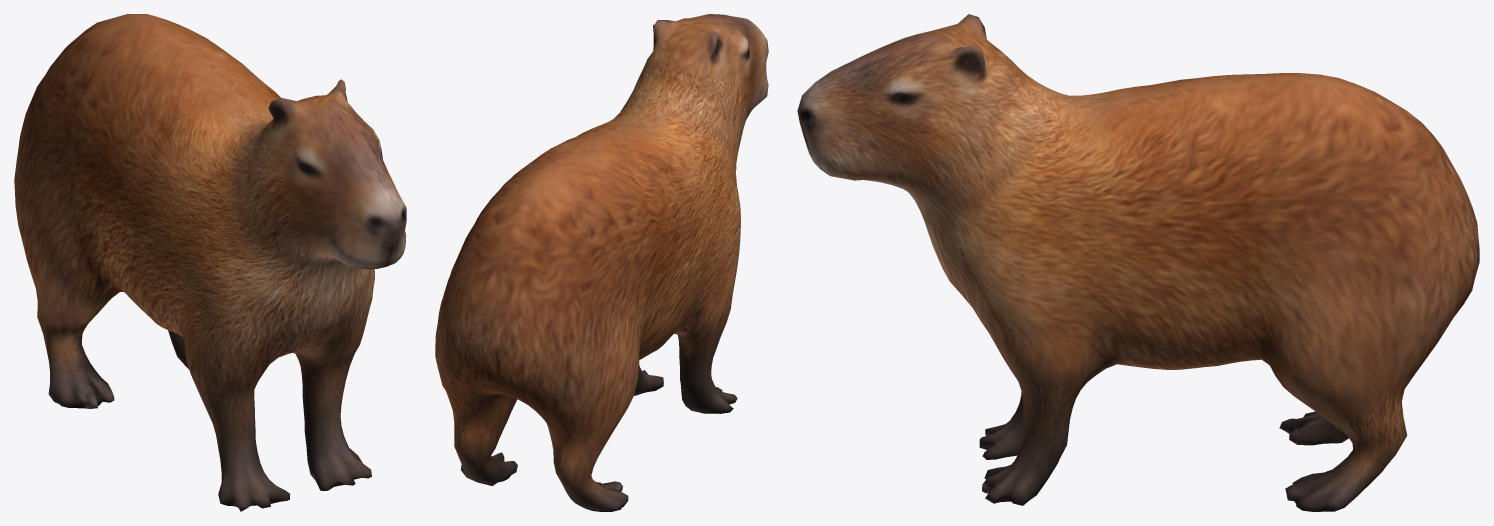
Rendered from capibara.glb.
3 views of the same model, side by side, from view 1: azimuth 30°, elevation 25°; view 2: azimuth 150°, elevation 25°; view 3: azimuth 270°, elevation 25° (orthographic). The views are drawn at different scales.
Parts seen in each view (by area): view 1: Capybara_mesh; view 2: Capybara_mesh; view 3: Capybara_mesh.
Boxes of the visible parts, <box> form: Capybara_mesh: <box>14,14,406,511</box>; Capybara_mesh: <box>435,14,768,511</box>; Capybara_mesh: <box>797,14,1479,511</box>.
Size of the model in its own units: 0.3071 by 0.6295 by 0.8801.
1 material, 1 textured.
